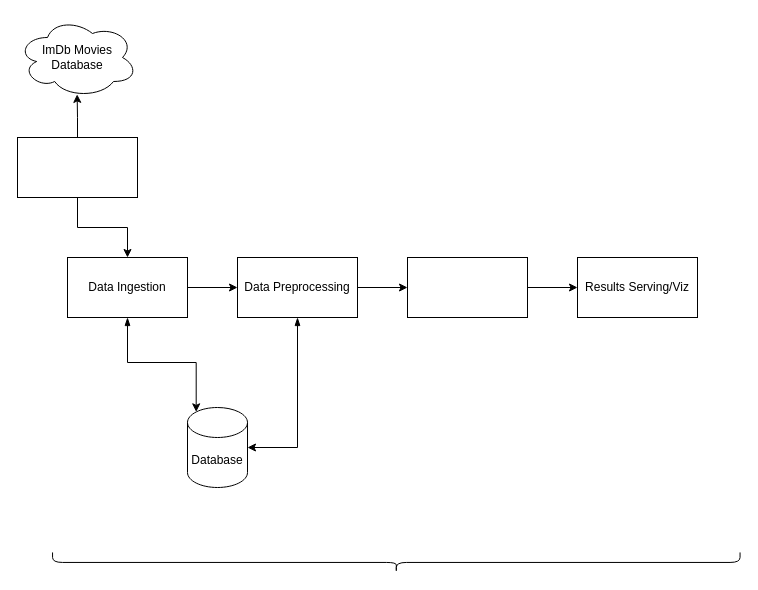
Some shapes in this 758 by 590 pixel diagram are drawn without their labels. The shapes that lost their labels are listed below. From the top down, each one's centre as x and y in pixels, then its label:
At point 77,167: "API (Cinemagoer)".
At point 467,287: "Data Analysis (e.g. Sentiment Analysis)".
At point 396,562: "Scheduling: Airflow".
